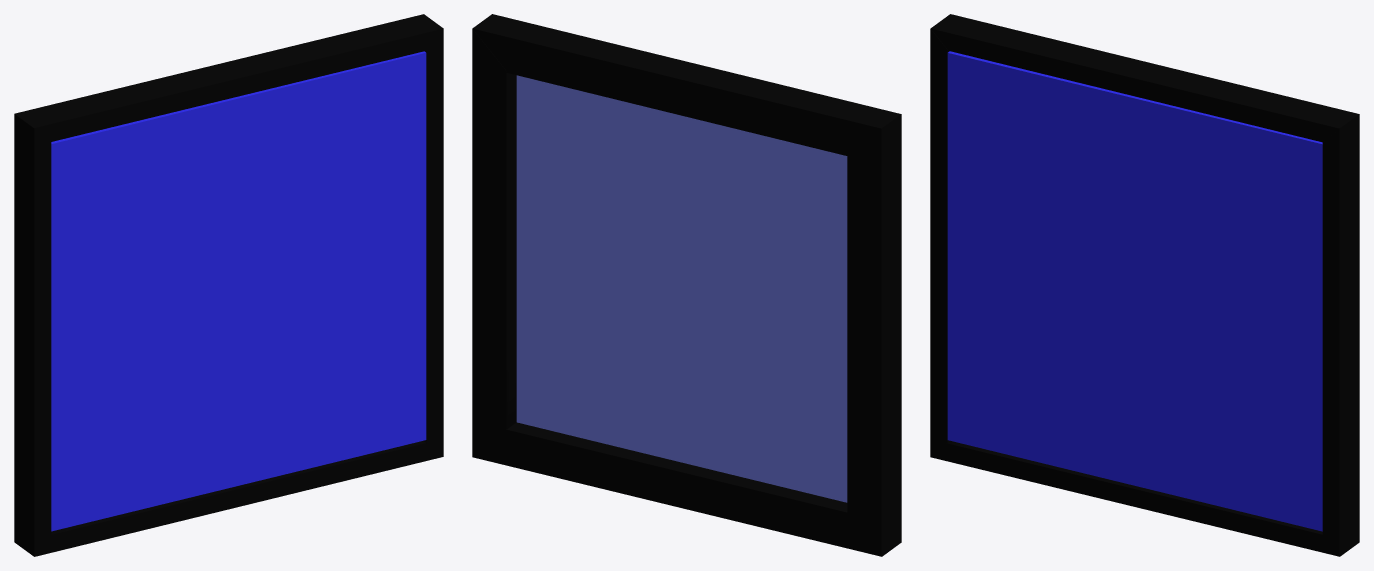
The model's file is cuadroPlanoCAMARA.glb.
The picture shows the model from 3 angles, left to right: view 1: azimuth 30°, elevation 25°; view 2: azimuth 150°, elevation 25°; view 3: azimuth 330°, elevation 25°; orthographic projection.
Parts seen in each view (by area): view 1: tapa, liston, liston_3, liston_1, liston_2; view 2: tapa, vidrio, liston, liston_3, liston_2, liston_1; view 3: tapa, liston_2, liston_3, liston_1, liston.
Part boxes in pixels (bbox=[...]): tapa: bbox=[51, 51, 426, 531]; liston: bbox=[14, 114, 51, 556]; liston_3: bbox=[14, 14, 443, 141]; liston_1: bbox=[34, 441, 442, 556]; liston_2: bbox=[423, 29, 443, 456]; tapa: bbox=[516, 75, 847, 502]; vidrio: bbox=[517, 75, 846, 502]; liston: bbox=[847, 114, 901, 556]; liston_3: bbox=[472, 14, 900, 156]; liston_2: bbox=[472, 29, 516, 456]; liston_1: bbox=[472, 422, 880, 556]; tapa: bbox=[947, 51, 1322, 531]; liston_2: bbox=[1322, 114, 1359, 556]; liston_3: bbox=[931, 14, 1358, 142]; liston_1: bbox=[930, 441, 1338, 556]; liston: bbox=[930, 28, 950, 456].
Size of the model in its own units: 2.39 by 2.38 by 0.2037.
